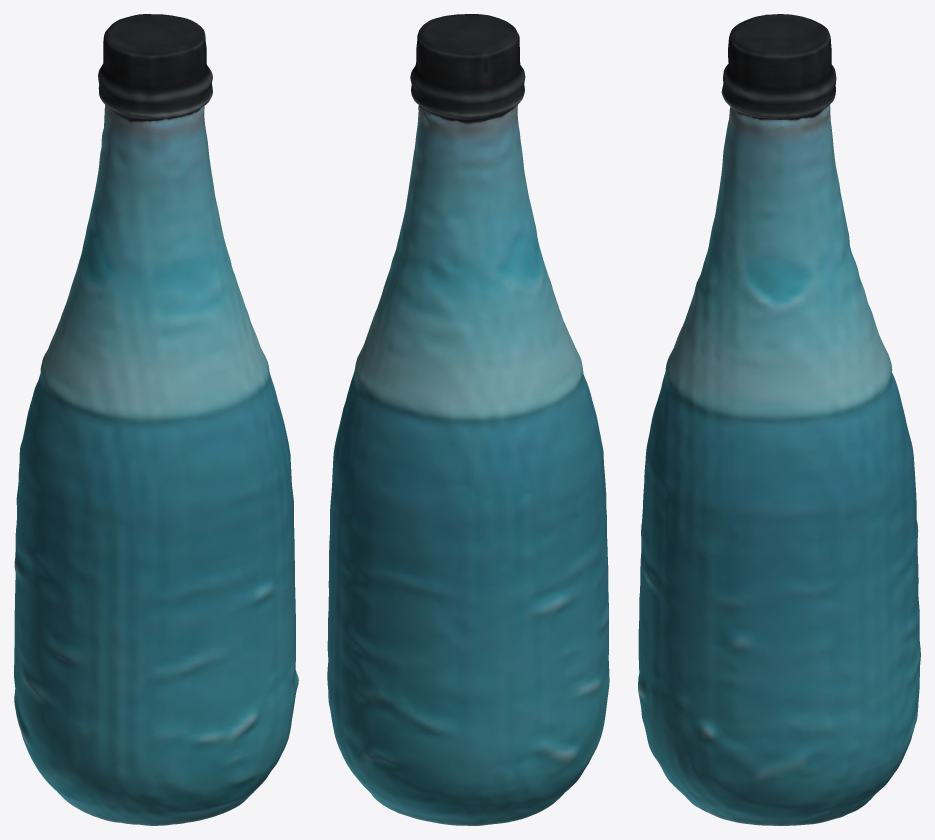
File: f344d1a44f77_water_essence__3d_a.fbx
3 renders of one model, left to right at view 1: azimuth 30°, elevation 25°; view 2: azimuth 150°, elevation 25°; view 3: azimuth 270°, elevation 25°, orthographic.
Visible parts, largest first — view 1: high_poly; view 2: high_poly; view 3: high_poly.
Part boxes in pixels (left/top/right/bottom): high_poly: left=14, top=14, right=298, bottom=825; high_poly: left=327, top=14, right=609, bottom=825; high_poly: left=638, top=14, right=920, bottom=825.
Size of the model in its own units: 33.94 by 100 by 34.
